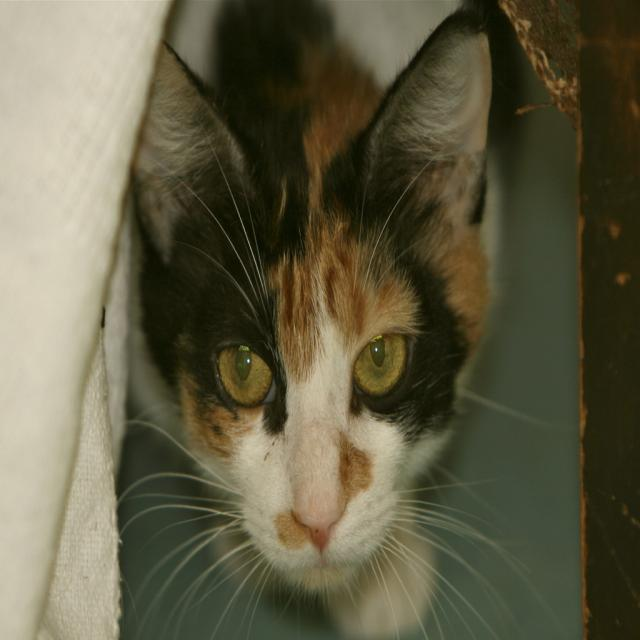Cat: (114, 3, 552, 638)
